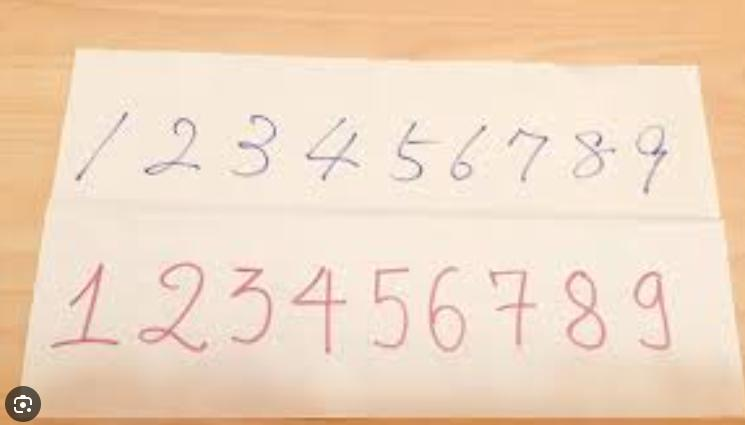text: (49, 256, 675, 360), (68, 107, 671, 200)
